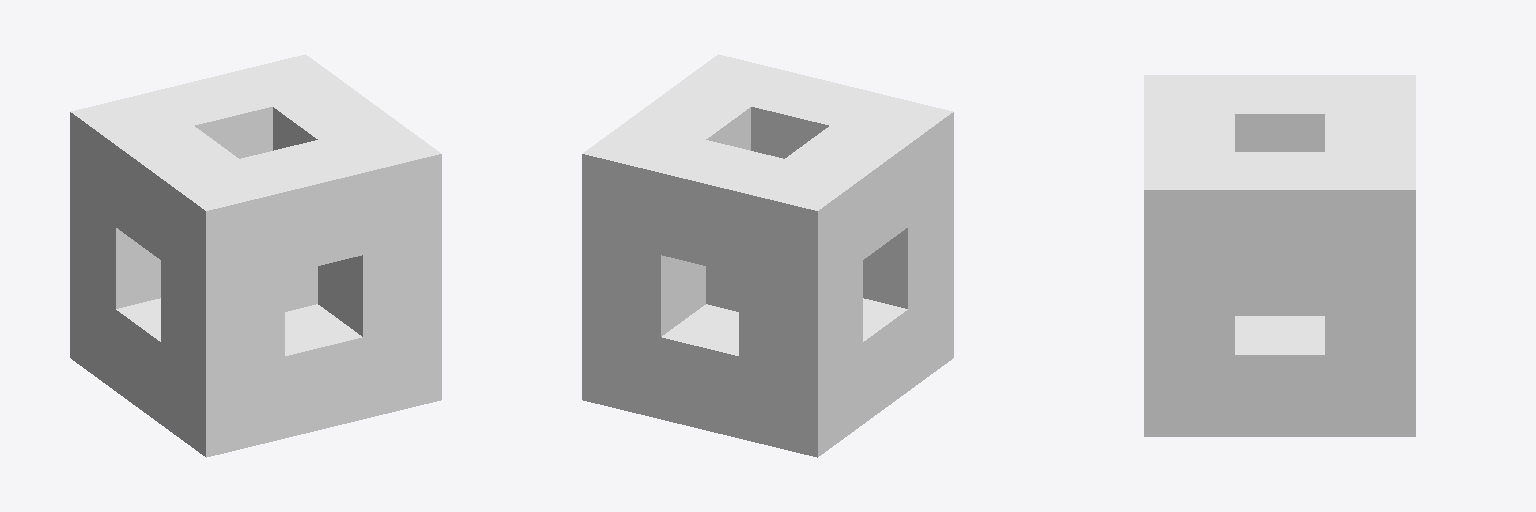
File: EnemyBullet.obj
The picture shows the model from 3 angles: view 1: azimuth 30°, elevation 25°; view 2: azimuth 150°, elevation 25°; view 3: azimuth 270°, elevation 25°; orthographic projection.
Visible parts, largest first — view 1: object 1; view 2: object 1; view 3: object 1.
Boxes of the visible parts, <box> form: object 1: <box>70,54,441,457</box>; object 1: <box>582,54,953,457</box>; object 1: <box>1144,75,1415,436</box>.
Bounding box in the file's own units: 0.3 × 0.3 × 0.3.